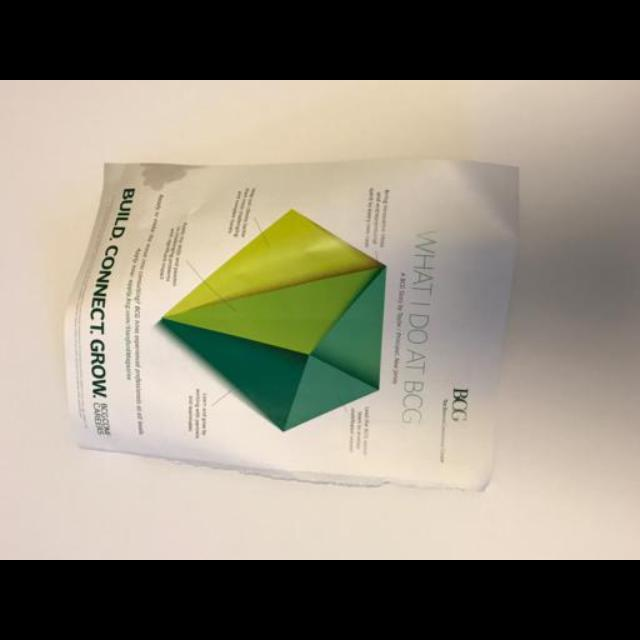papel: (65, 160, 517, 494)
